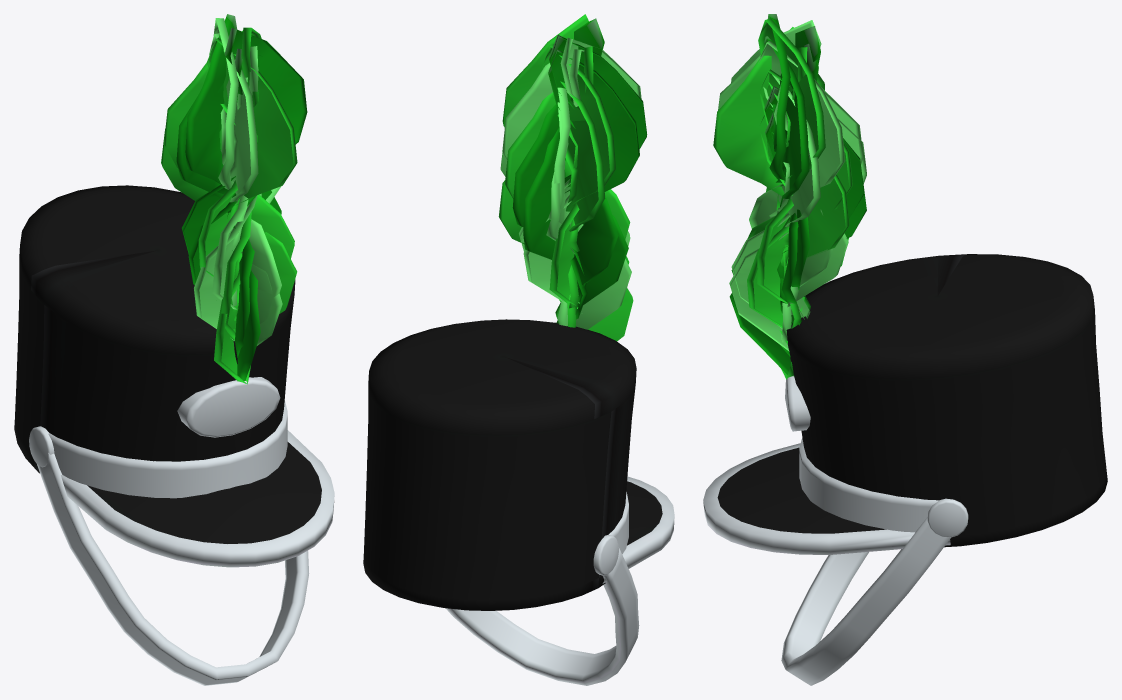
The model's file is lowpoly_marching_band_hat_green.glb.
The picture shows the model from 3 angles, left to right: view 1: azimuth 30°, elevation 25°; view 2: azimuth 150°, elevation 25°; view 3: azimuth 270°, elevation 25°; orthographic projection. The views are drawn at different scales.
Parts seen in each view (by area): view 1: hat_1; view 2: hat_1; view 3: hat_1.
Boxes of the visible parts, x1,y1,x2,y2 form: hat_1: [14, 14, 334, 685]; hat_1: [363, 14, 674, 685]; hat_1: [703, 14, 1107, 685].
Bounding box in the file's own units: 0.1757 × 0.4766 × 0.2674.
Materials: 10 (10 with a texture image).
